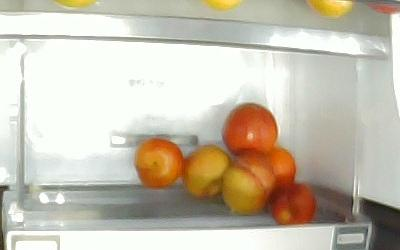prune: (224, 148, 276, 212), (223, 103, 280, 154), (184, 145, 231, 198), (133, 139, 183, 188), (260, 148, 297, 198), (270, 183, 316, 223)
